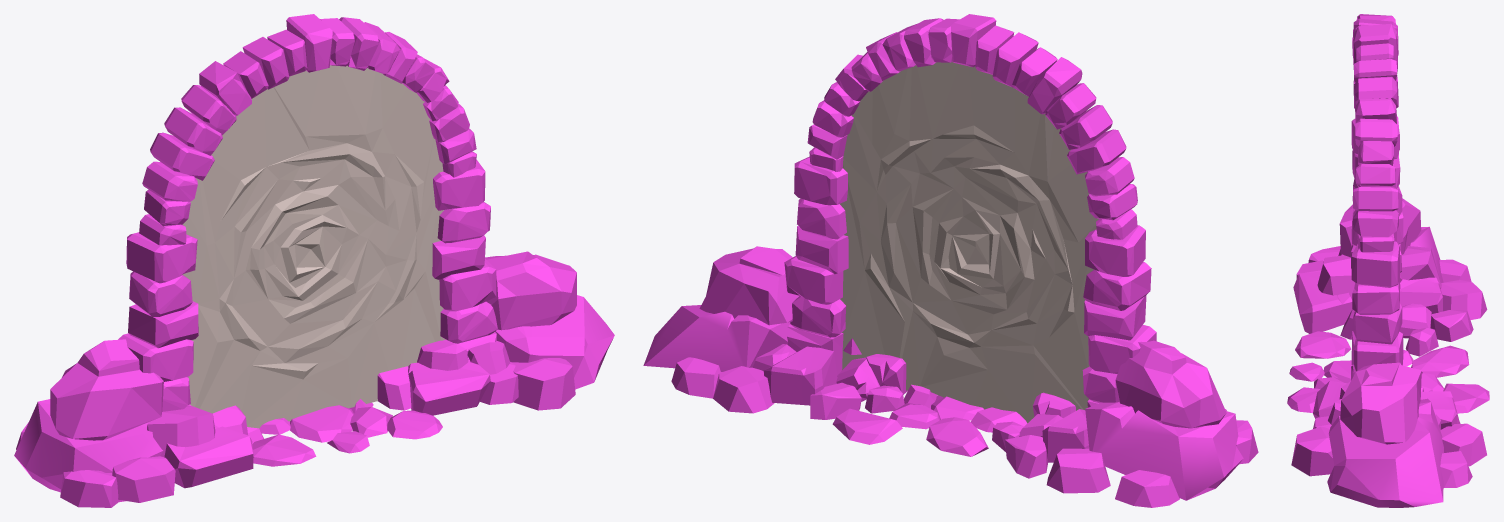
Rendered from SM_Portal_B_Fantasy.fbx.
The picture shows the model from 3 angles, left to right: view 1: azimuth 30°, elevation 25°; view 2: azimuth 150°, elevation 25°; view 3: azimuth 270°, elevation 25°; orthographic projection. The views are drawn at different scales.
Visible parts, largest first — view 1: SM_Portal_B_Fantasy; view 2: SM_Portal_B_Fantasy; view 3: SM_Portal_B_Fantasy.
Part boxes in pixels (x1=…): SM_Portal_B_Fantasy: x1=14, y1=14, x2=614, y2=507; SM_Portal_B_Fantasy: x1=643, y1=14, x2=1258, y2=507; SM_Portal_B_Fantasy: x1=1287, y1=14, x2=1489, y2=507.
Bounding box in the file's own units: 4.74 × 3.2 × 1.64.
